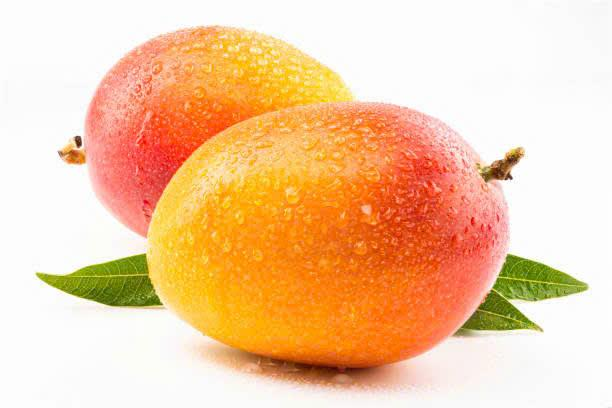mango: (148, 108, 543, 362)
